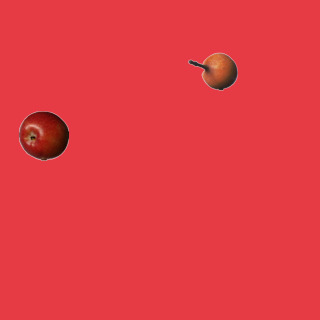Apple Braeburn: (18, 110, 68, 160)
Granadilla: (187, 46, 237, 96)
